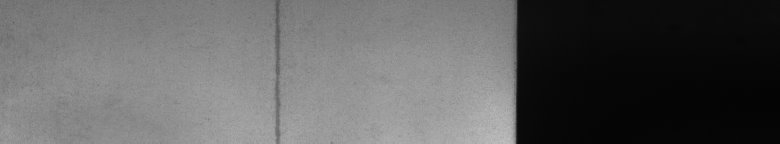hd: (271, 4, 284, 136)
